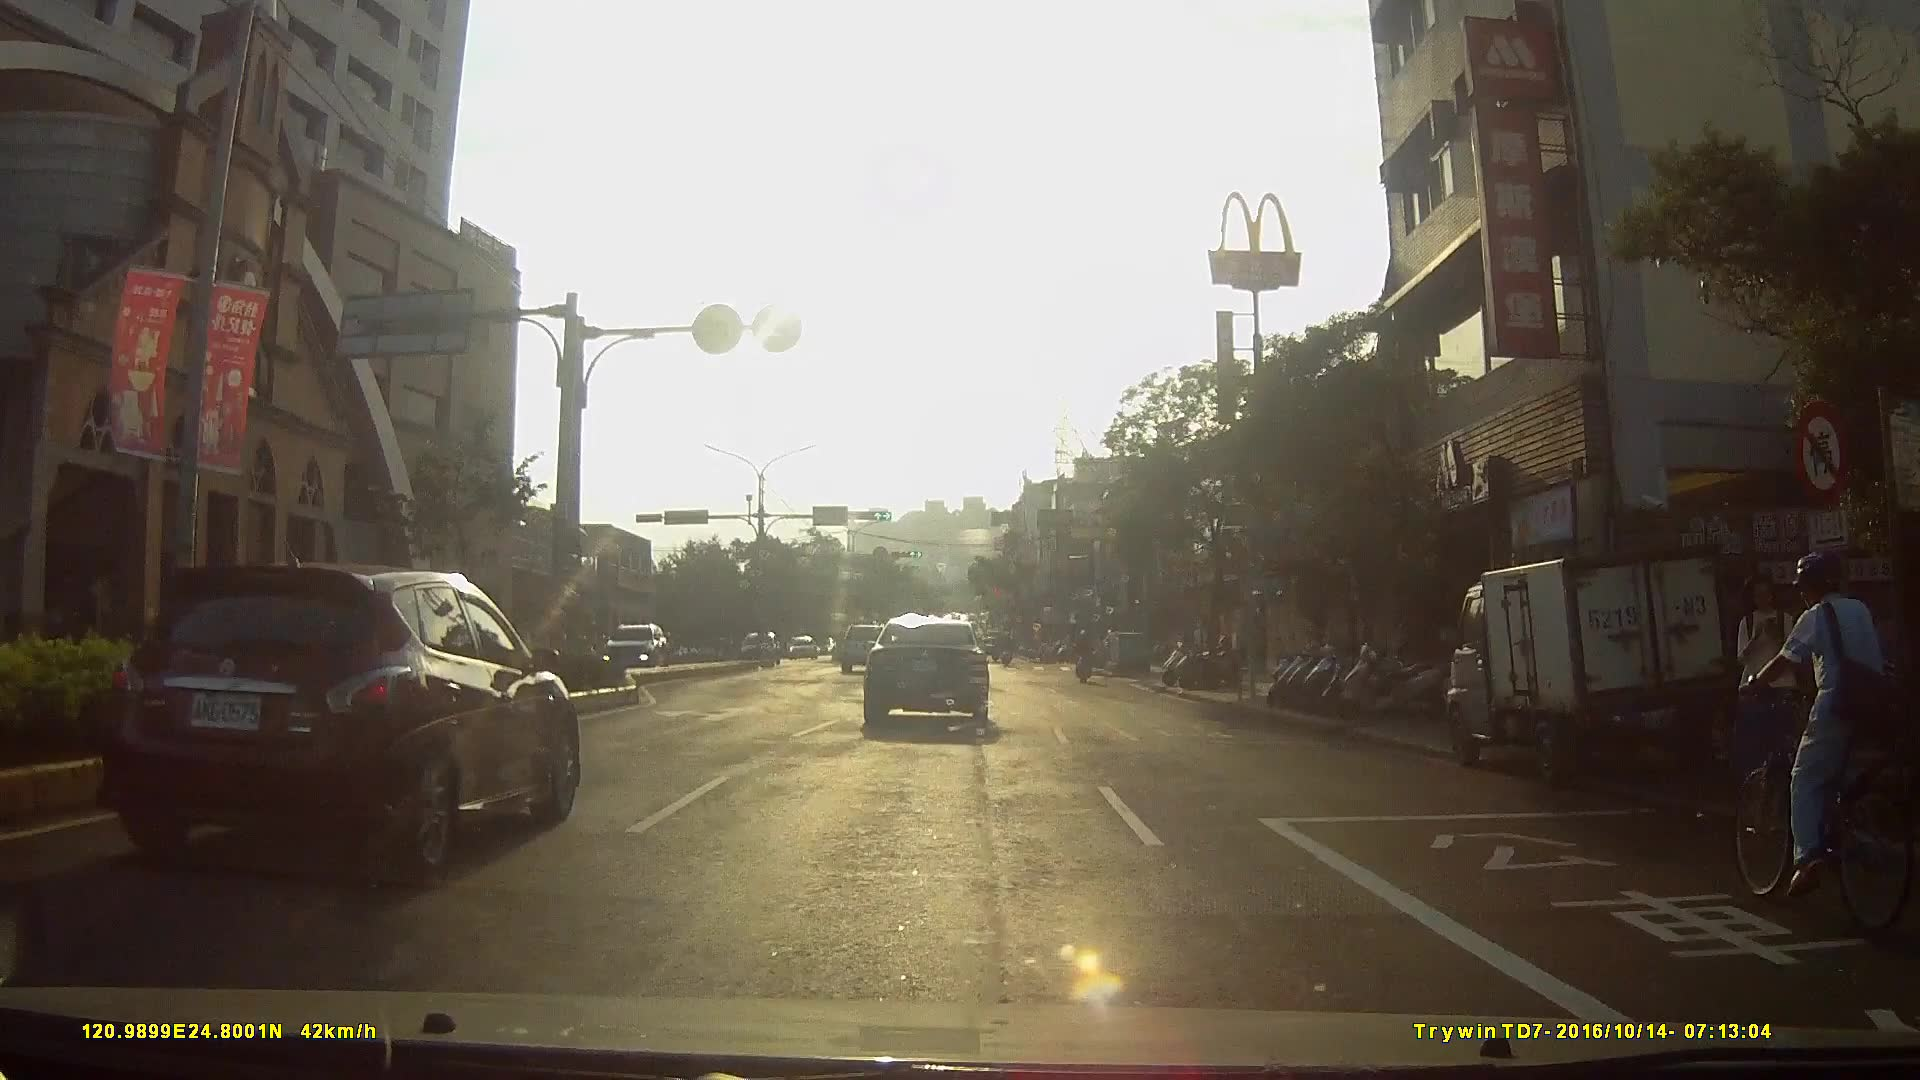pedestrian: (1731, 573, 1817, 813)
rider: (1731, 548, 1913, 917), (1074, 623, 1099, 684)
vehicle: (82, 554, 588, 871), (1431, 536, 1758, 783), (861, 611, 1003, 735), (587, 618, 671, 673), (837, 621, 896, 676), (724, 627, 773, 664), (780, 631, 827, 662)
